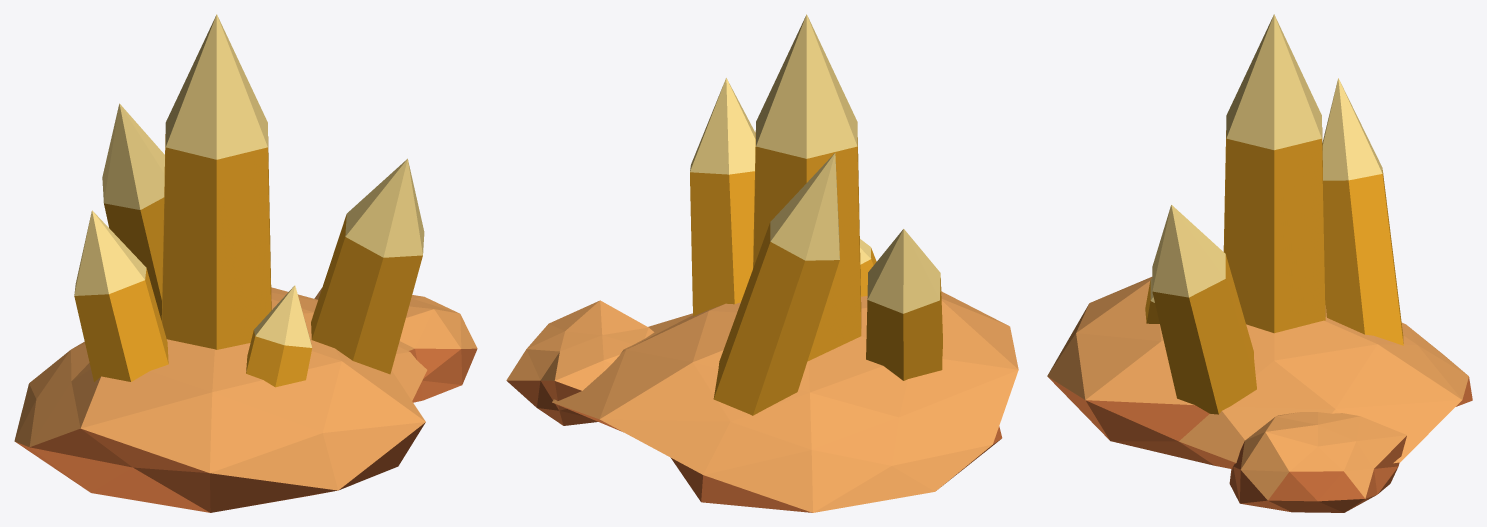
The model's file is CA_Cristal_Ambar.obj.
3 views of the same model, side by side, from view 1: azimuth 30°, elevation 25°; view 2: azimuth 150°, elevation 25°; view 3: azimuth 270°, elevation 25° (orthographic). The views are drawn at different scales.
Parts seen in each view (by area): view 1: CA_Cristal_Ambar; view 2: CA_Cristal_Ambar; view 3: CA_Cristal_Ambar.
Part boxes in pixels (left/top/right/bottom): CA_Cristal_Ambar: left=14, top=14, right=477, bottom=512; CA_Cristal_Ambar: left=506, top=14, right=1018, bottom=512; CA_Cristal_Ambar: left=1047, top=14, right=1472, bottom=512.
Size of the model in its own units: 2.2 by 1.96 by 1.95.
